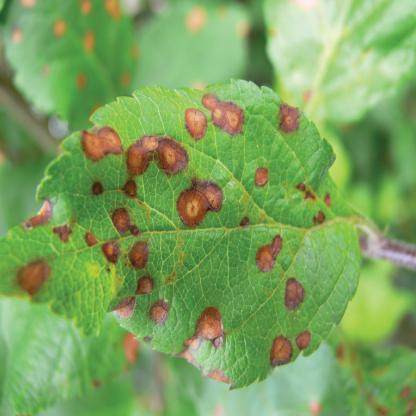Apple rust leaf: (0, 75, 380, 394)
